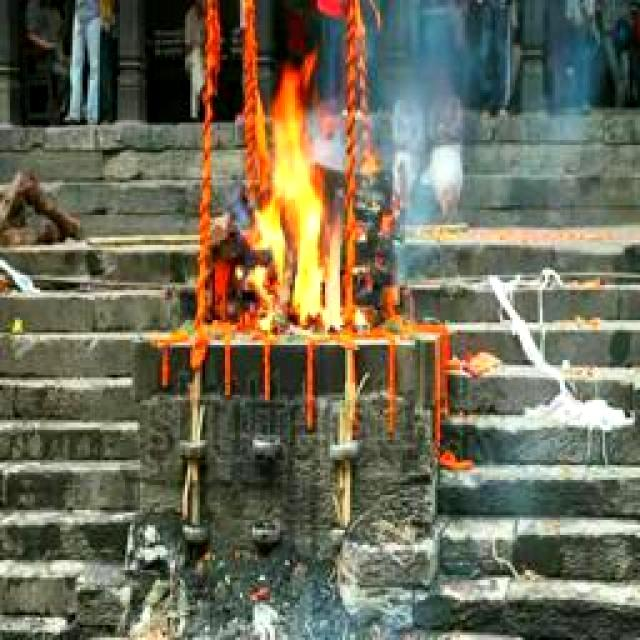fire: (246, 79, 350, 335)
